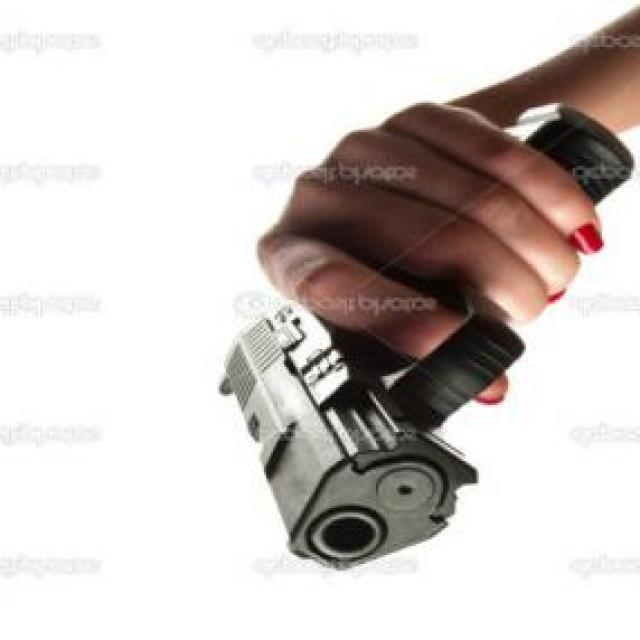pistol: (206, 92, 632, 570)
